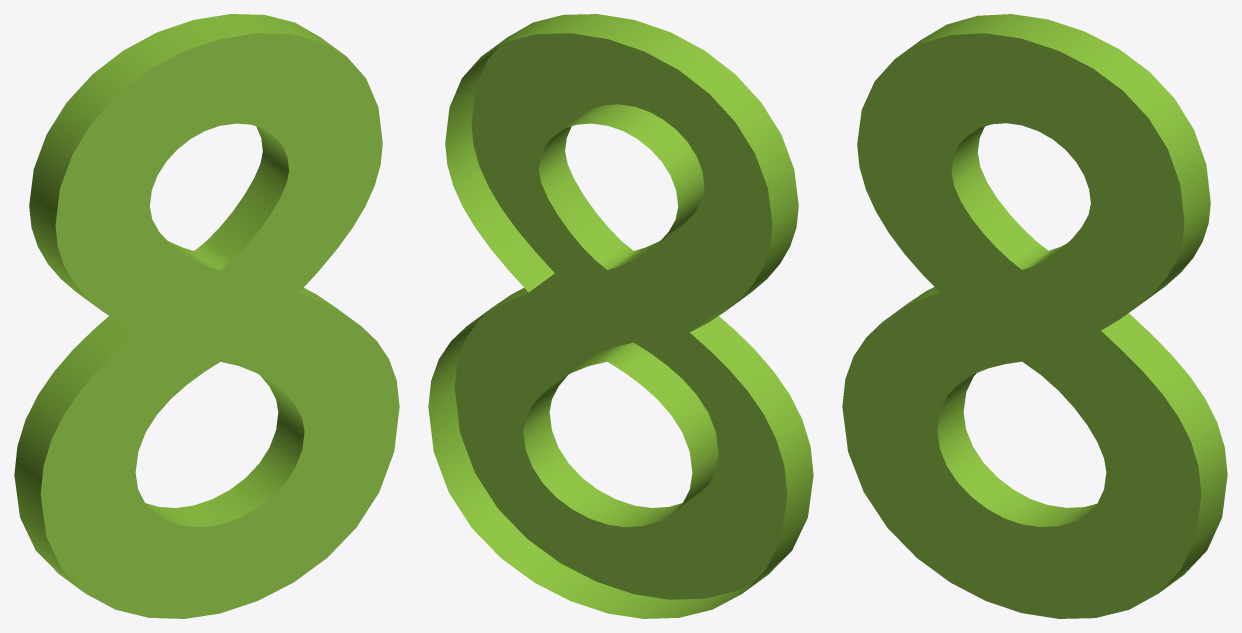
Rendered from number_eight.FBX.
3 views of the same model, side by side, from view 1: azimuth 30°, elevation 25°; view 2: azimuth 150°, elevation 25°; view 3: azimuth 330°, elevation 25° (orthographic).
Parts seen in each view (by area): view 1: number_eight; view 2: number_eight; view 3: number_eight.
Boxes of the visible parts, x1,y1,x2,y2 form: number_eight: (14, 14, 399, 618); number_eight: (428, 14, 813, 618); number_eight: (842, 14, 1227, 618).
Size of the model in its own units: 26.62 by 40.7 by 3.38.
